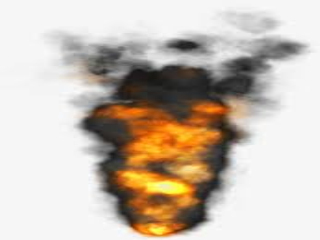fire: (101, 100, 228, 232)
smoke: (63, 25, 303, 100)
